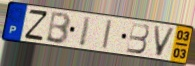B: (44, 11, 73, 45), (125, 22, 150, 55)
I: (78, 15, 93, 48), (101, 18, 114, 51)
V: (152, 24, 177, 58)
Z: (23, 9, 49, 42)
